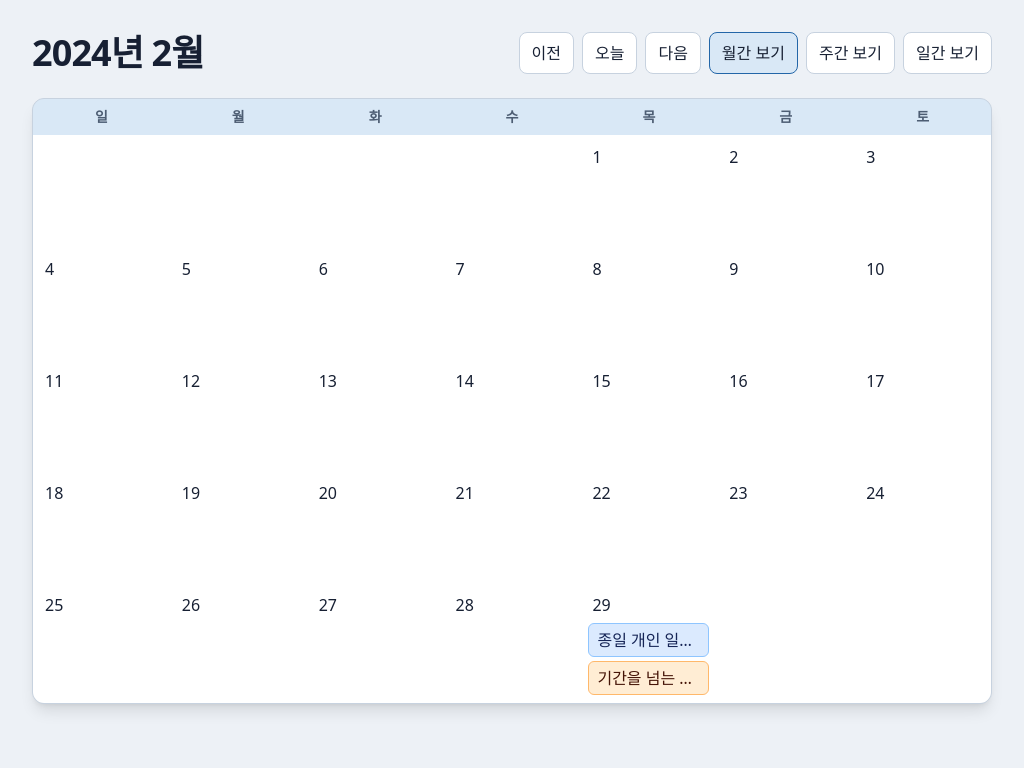
ScheduleCalendar › shows attendee count, named participants, creator attendance, and an empty attendee state without raw IDs
Click the button "기간을 넘는 팀 회의 · 팀".
click(649, 678)  # box [588, 661, 709, 695]
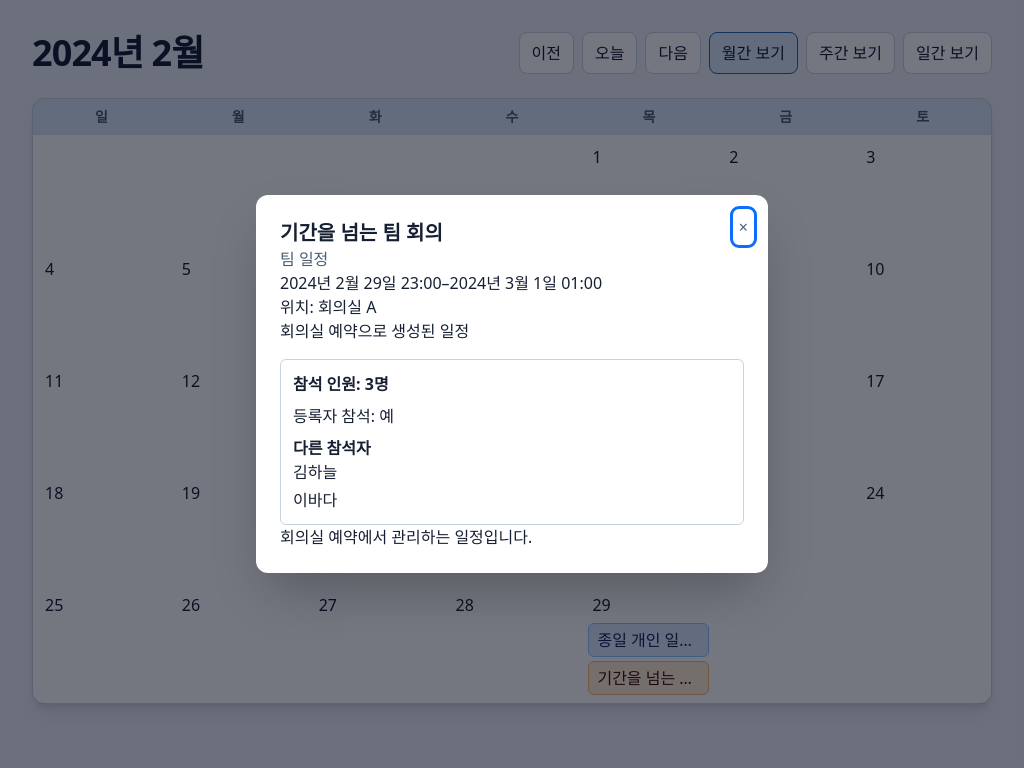
Check: the text "참석 인원: 3명" is shown, box [293, 373, 389, 395]
Check: the text "등록자 참석: 예" is shown, box [293, 405, 394, 427]
Check: the list item "김하늘" is shown, box [293, 461, 337, 483]
